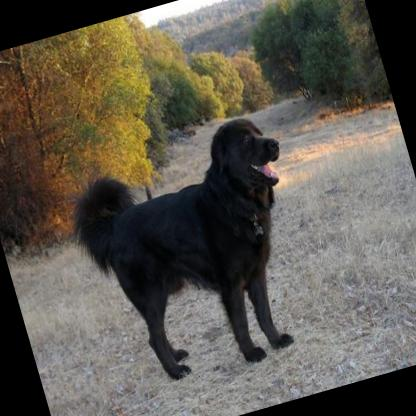Tibetan_mastiff: (51, 103, 338, 406)
